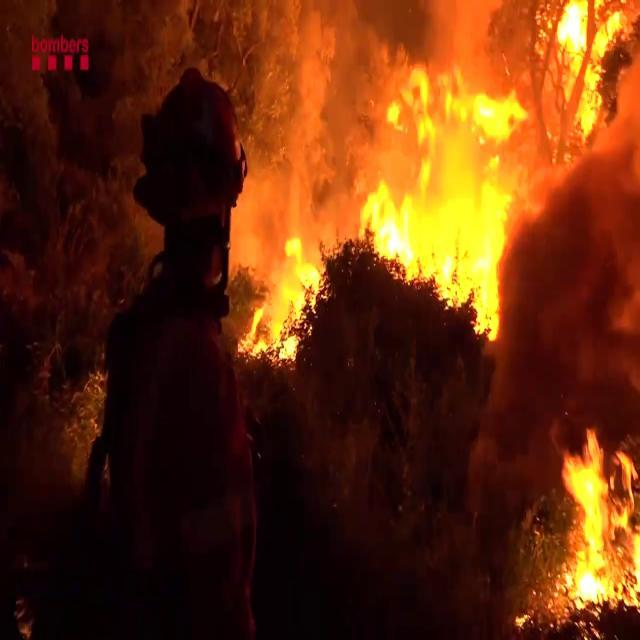Fire: (351, 1, 639, 267), (542, 408, 640, 628), (240, 227, 326, 367)
